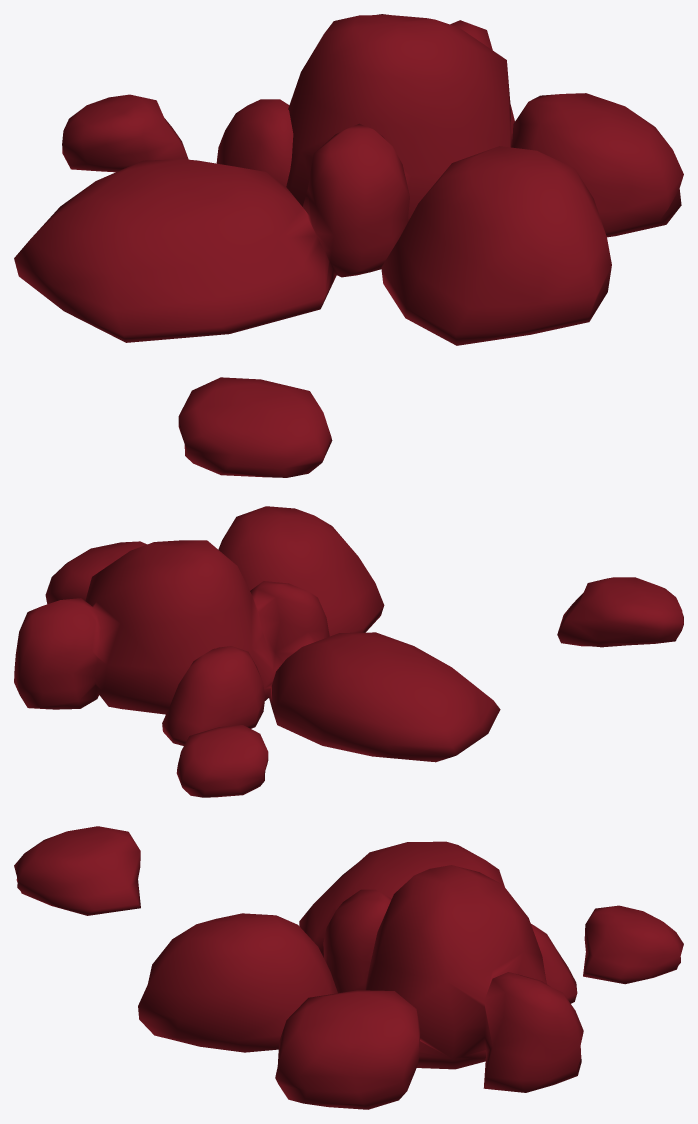
Rendered from stones.glb.
3 renders of one model, top to bottom at view 1: azimuth 30°, elevation 25°; view 2: azimuth 150°, elevation 25°; view 3: azimuth 270°, elevation 25°, orthographic. The views are drawn at different scales.
Visible parts, largest first — view 1: C-rock_large; view 2: C-rock_large; view 3: C-rock_large.
Boxes of the visible parts, <box> form: C-rock_large: <box>14,14,683,477</box>; C-rock_large: <box>14,506,683,797</box>; C-rock_large: <box>14,826,683,1109</box>.
Size of the model in its own units: 3.31 by 0.946 by 3.6.
